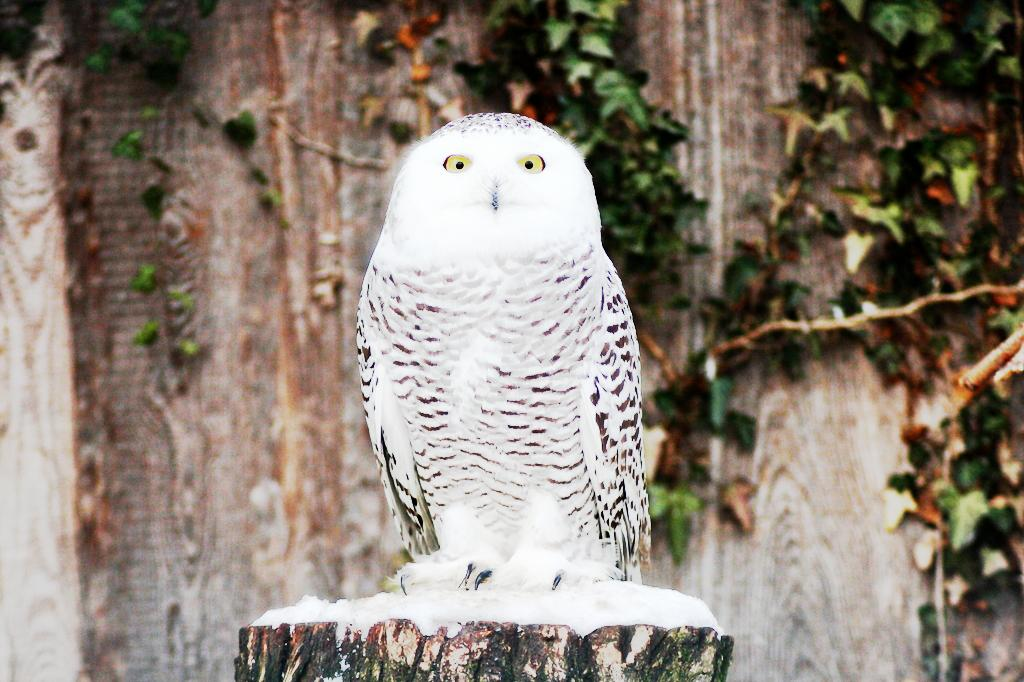Owl: (354, 113, 652, 592)
